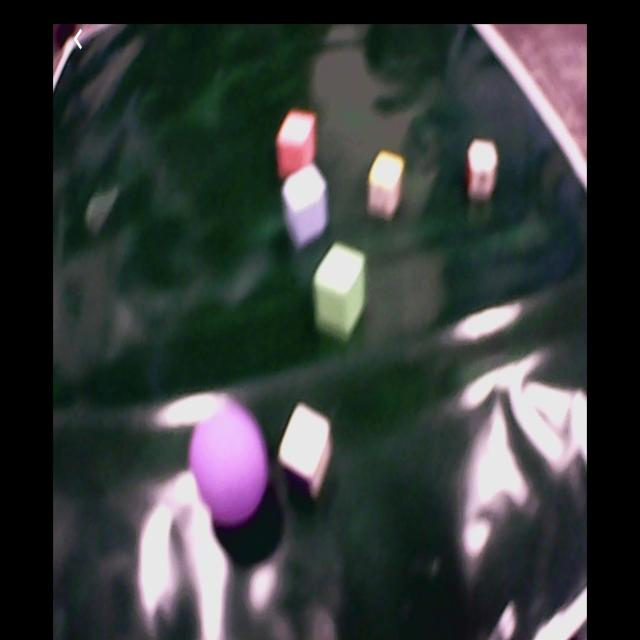ball: (188, 399, 269, 526)
